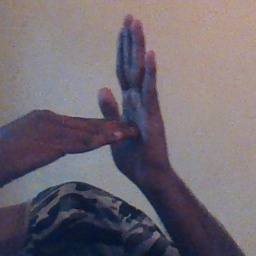Z: (49, 10, 175, 177)
